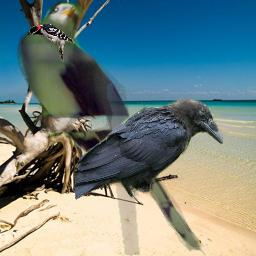Crow: (75, 97, 224, 200)
Cuckoo: (17, 0, 214, 255)
Woodpecker: (27, 23, 75, 62)
